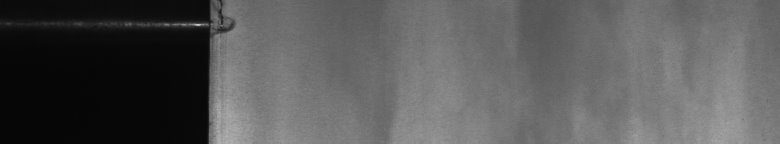hb: (220, 4, 241, 43)
